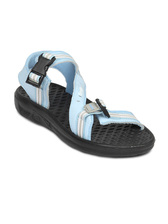shoes: (13, 45, 159, 158)
